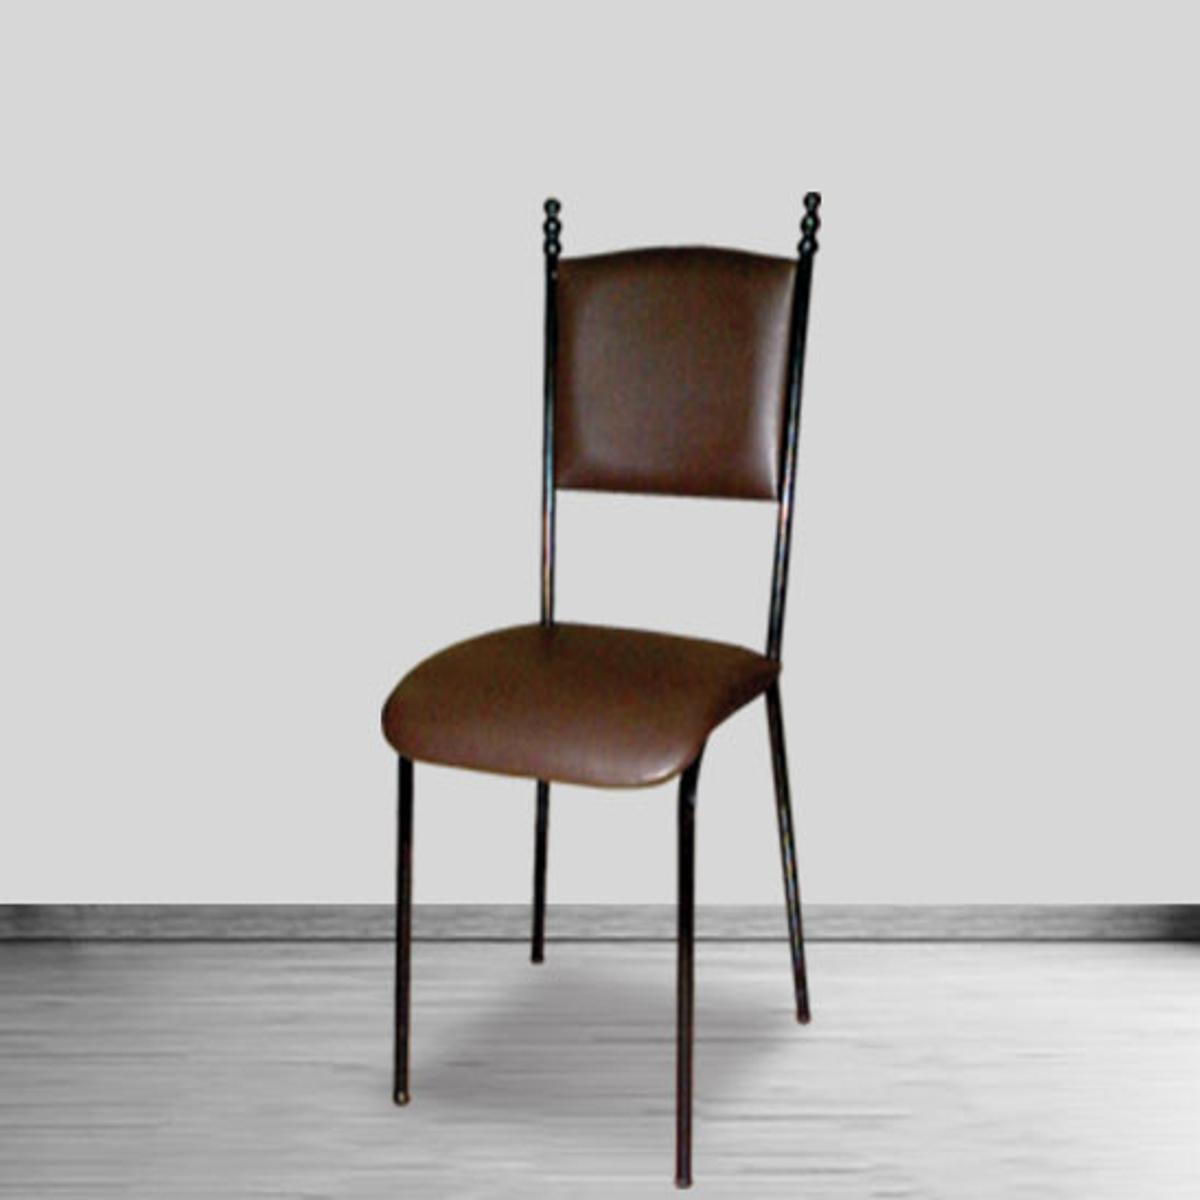Chair: (376, 186, 823, 1182)
